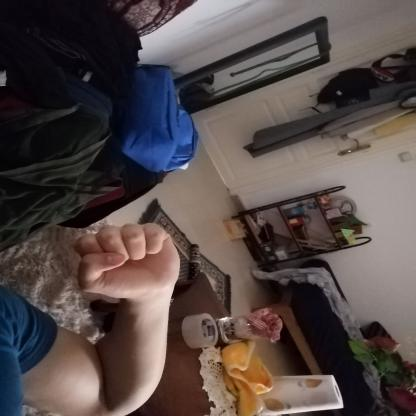SAD: (56, 210, 200, 311)
